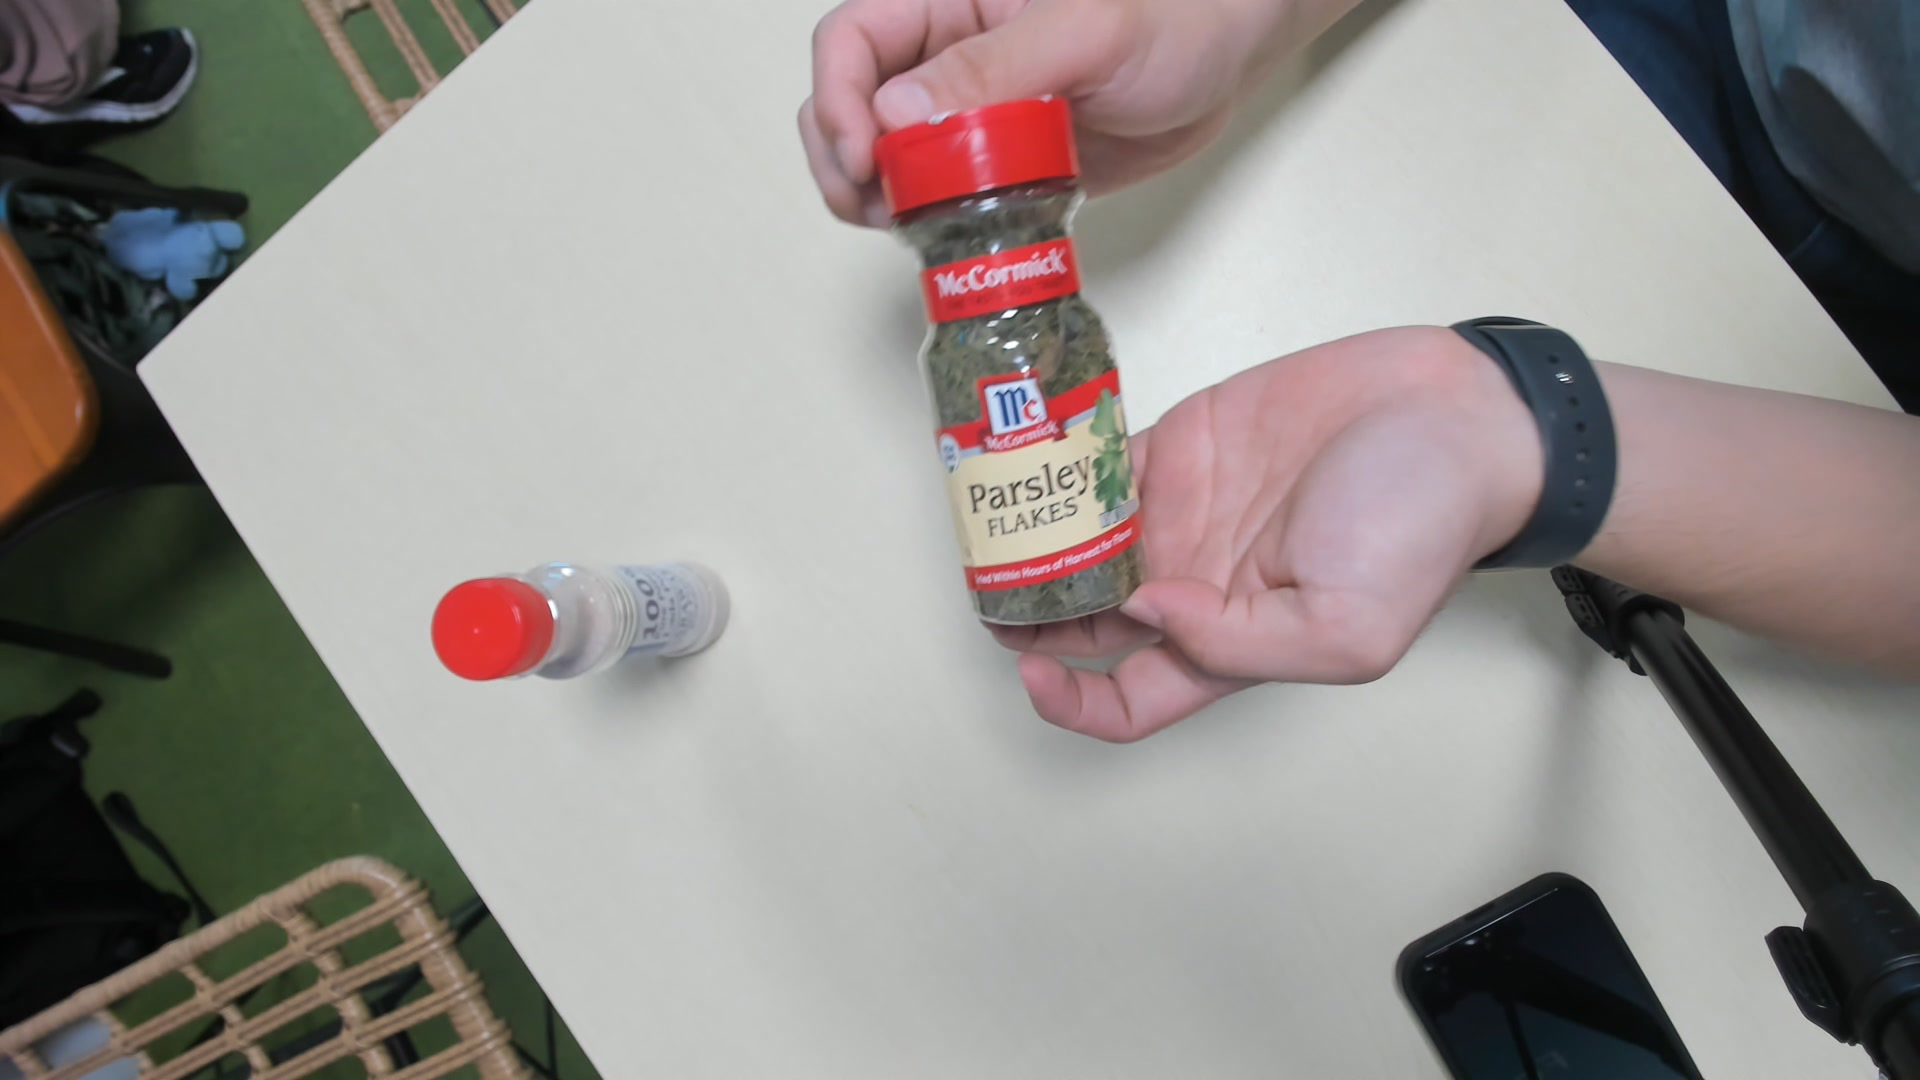HerbsSpicesPepper_0-99g_NonHalal_NonHealthy: (877, 99, 1147, 632)
